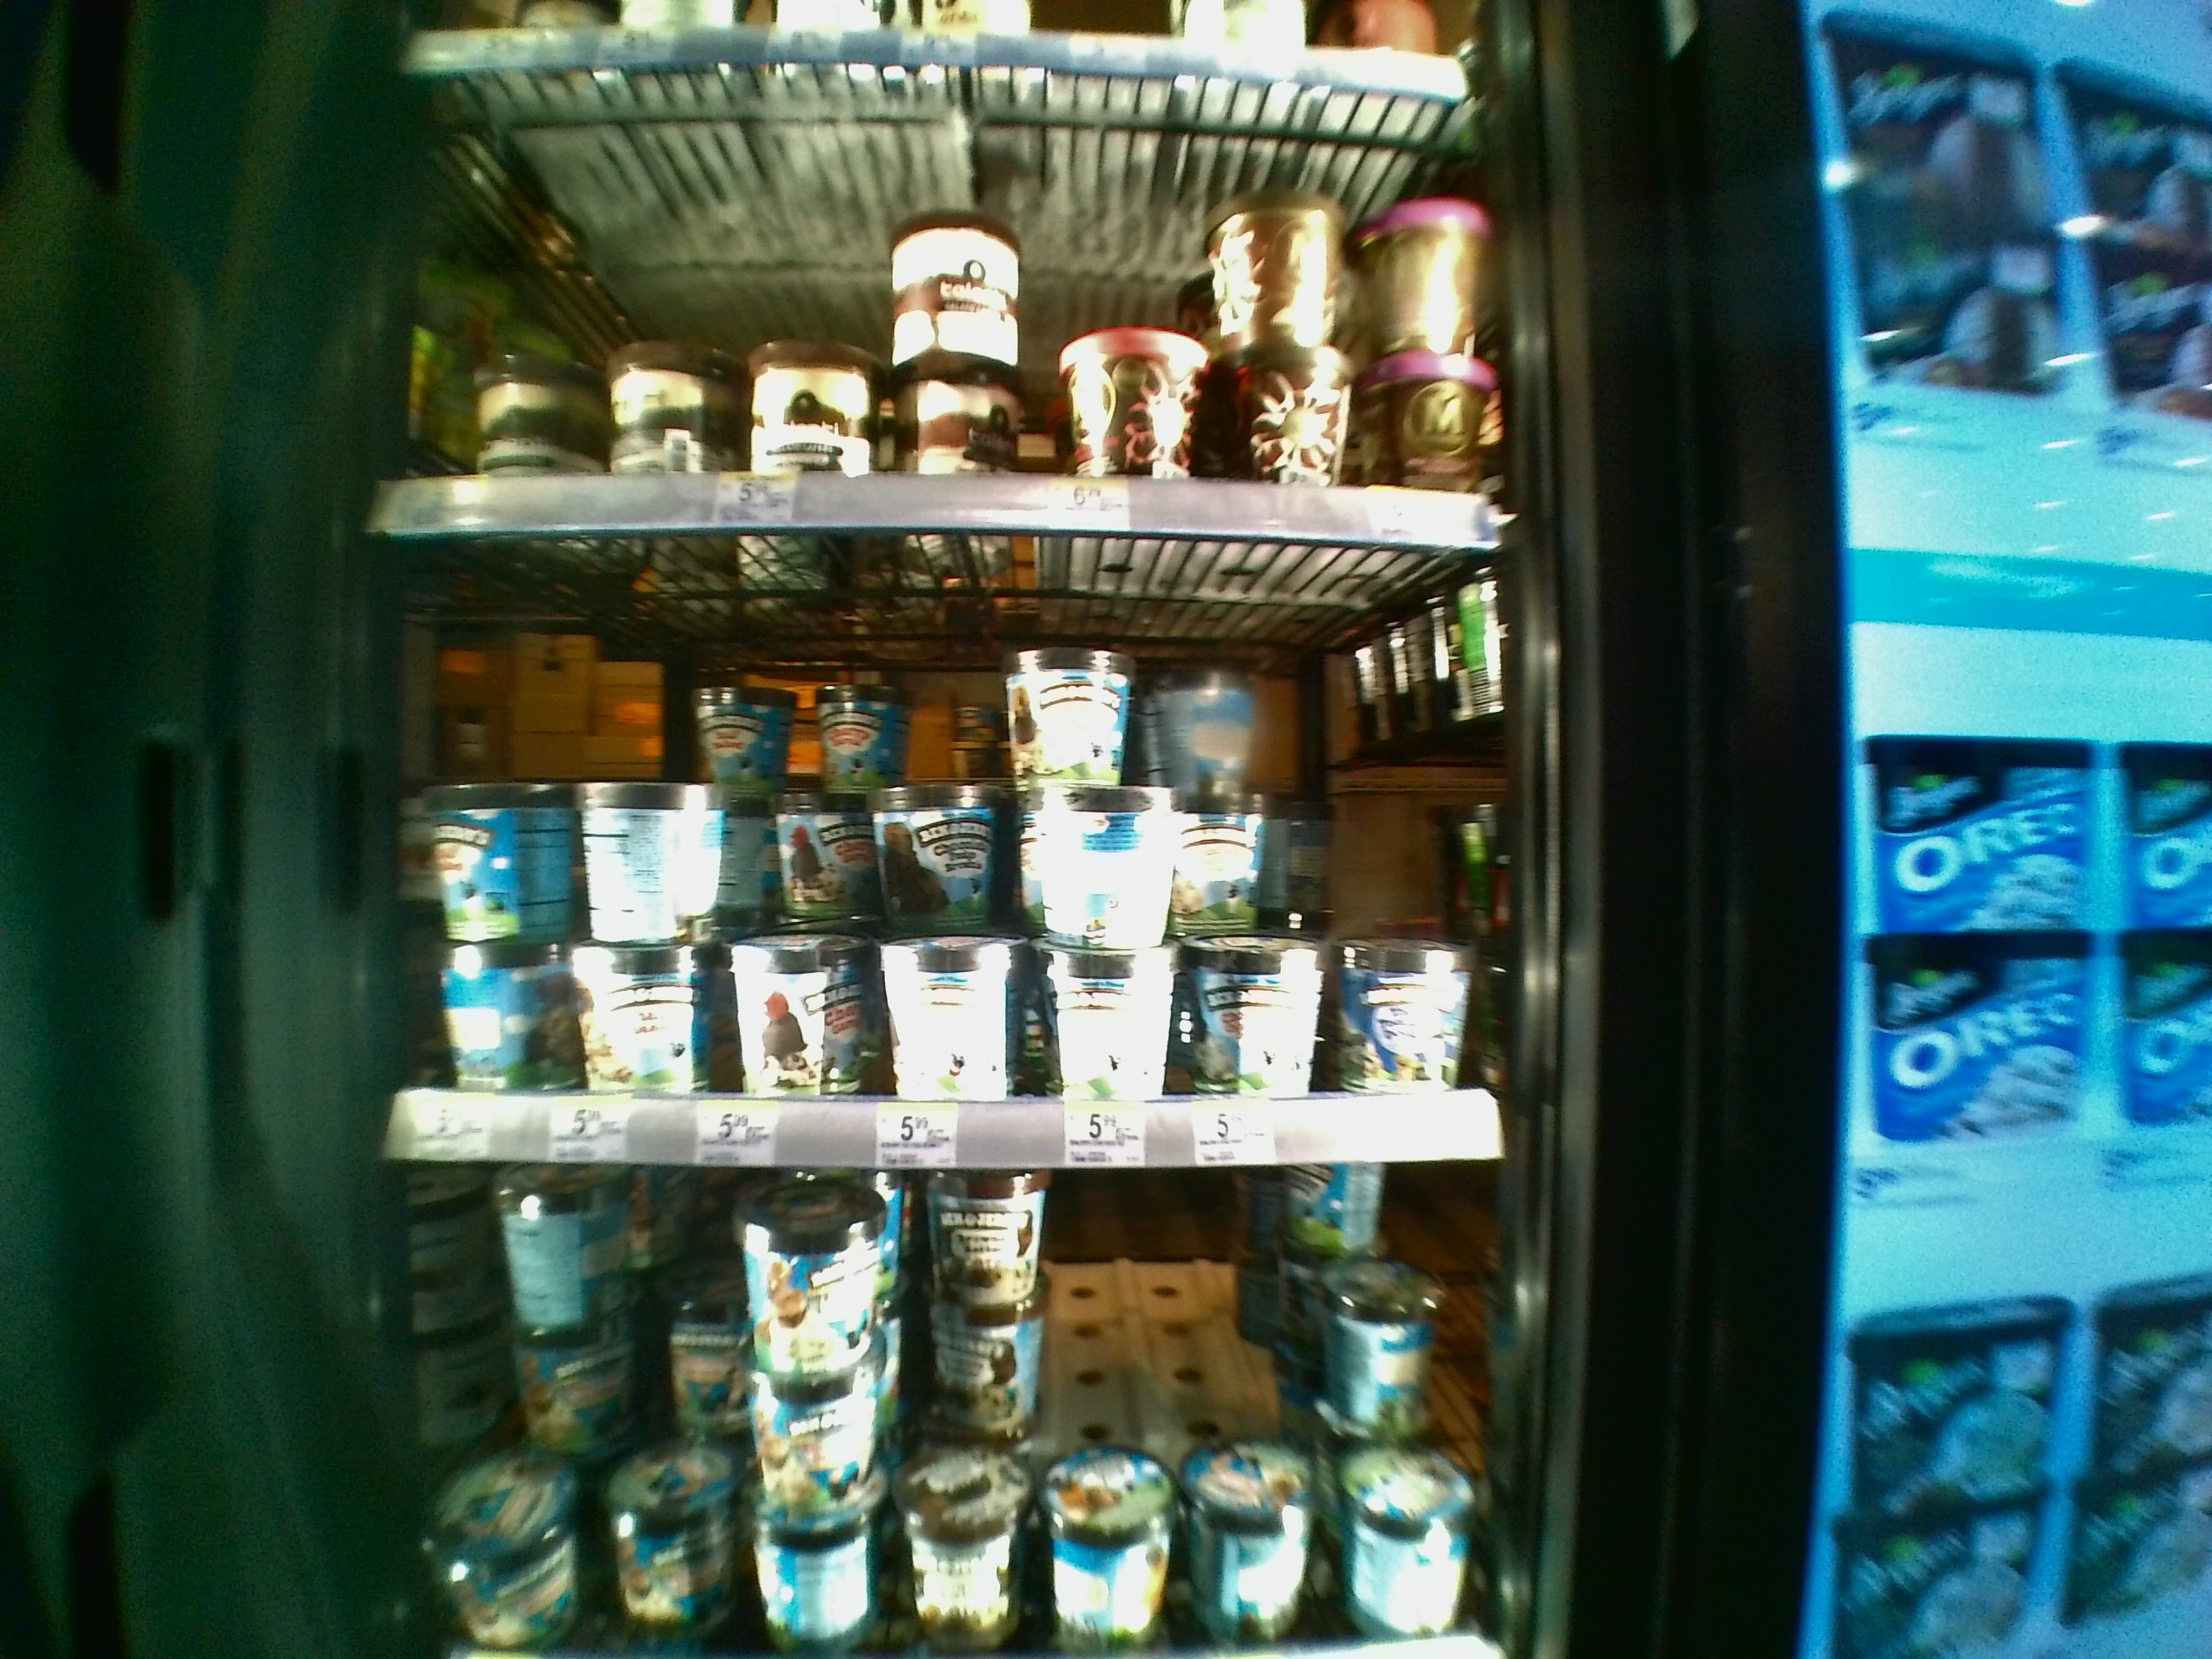shelf: (369, 563, 1524, 1154), (374, 94, 1505, 545)
